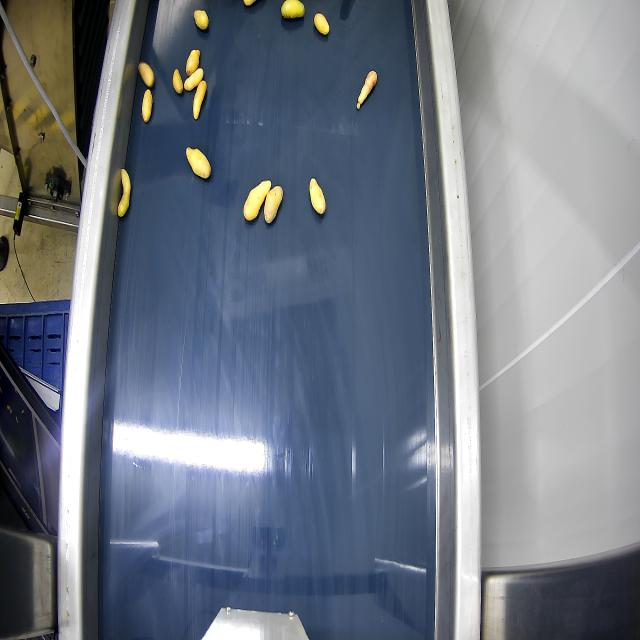Baby Potato: (244, 180, 272, 222), (357, 71, 377, 109), (186, 148, 210, 179), (264, 186, 282, 223), (118, 168, 130, 216), (310, 178, 325, 215), (193, 80, 206, 119), (184, 68, 203, 90), (281, 0, 304, 18), (138, 63, 154, 87), (186, 49, 199, 76), (142, 89, 152, 122), (314, 13, 329, 35), (172, 68, 184, 95), (194, 10, 208, 30), (244, 0, 256, 6)
